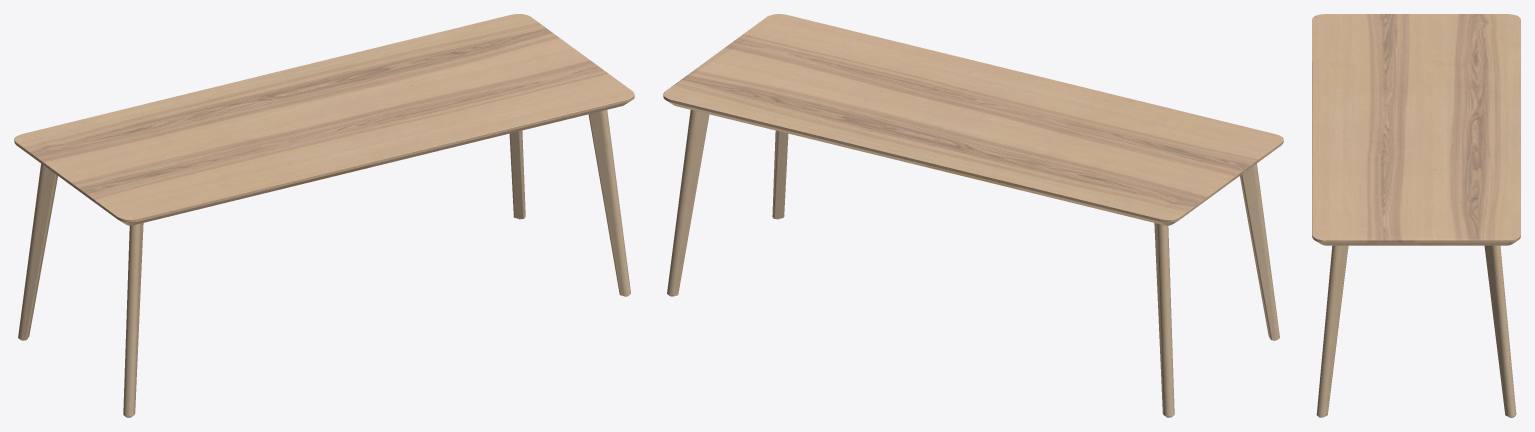
3 renders of one model, left to right at view 1: azimuth 30°, elevation 25°; view 2: azimuth 150°, elevation 25°; view 3: azimuth 270°, elevation 25°, orthographic. The views are drawn at different scales.
Visible parts, largest first — view 1: model; view 2: model; view 3: model.
Boxes of the visible parts, x1,y1,x2,y2 form: model: (14, 14, 634, 417); model: (663, 14, 1283, 417); model: (1312, 14, 1520, 417).
Bounding box in the file's own units: 2 × 0.7444 × 0.7807.
Materials: 1 (1 with a texture image).
